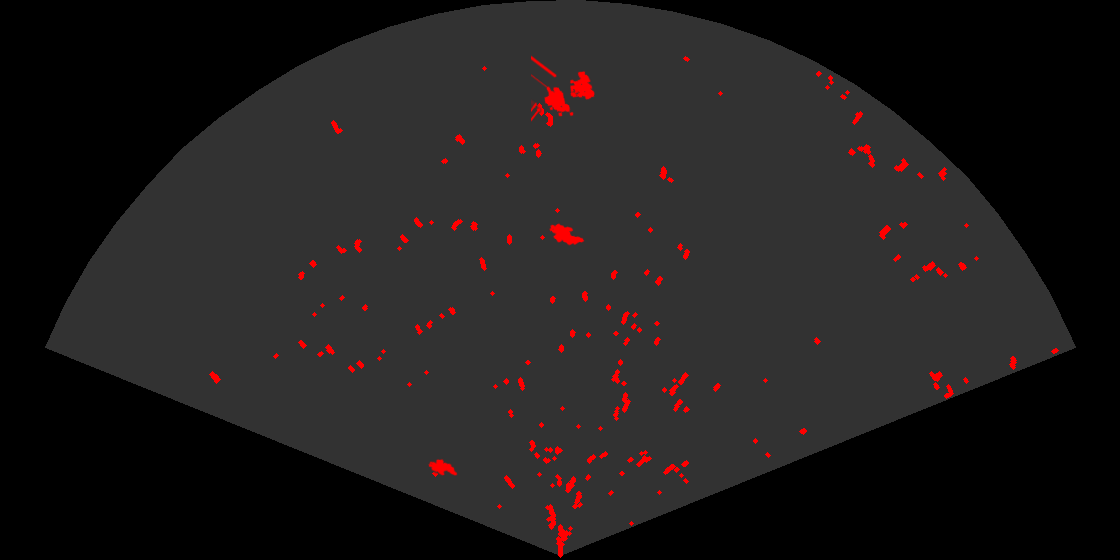AUV: (548, 222, 586, 247), (427, 457, 459, 477)
cage: (531, 54, 596, 123)
